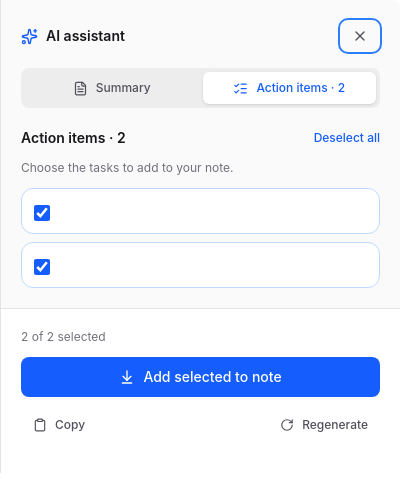
Scenario: disables insertion and copying with no selected tasks and supports selecting all again
Click the button "Deselect all" at (347, 138), box [314,130,380,146]
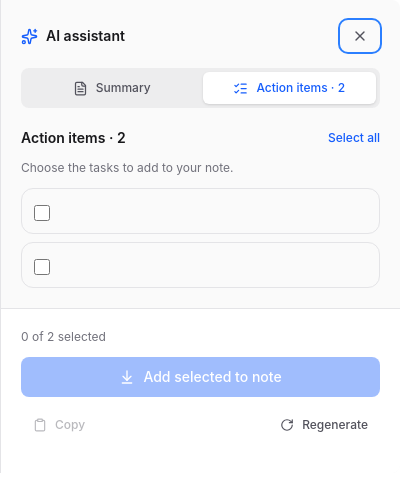
Expected: the button "Add selected to note" is disabled, [21,357,380,397]
Expected: the button "Copy" is disabled, [21,409,97,441]
Click the button "Select all" at (354, 138), box [328,130,380,146]
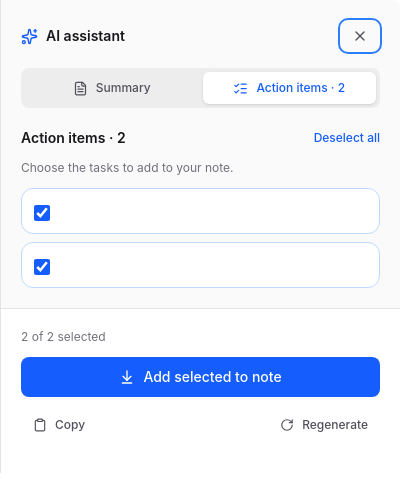
Expected: the text "2 of 2 selected" is shown, [21,329,106,344]
